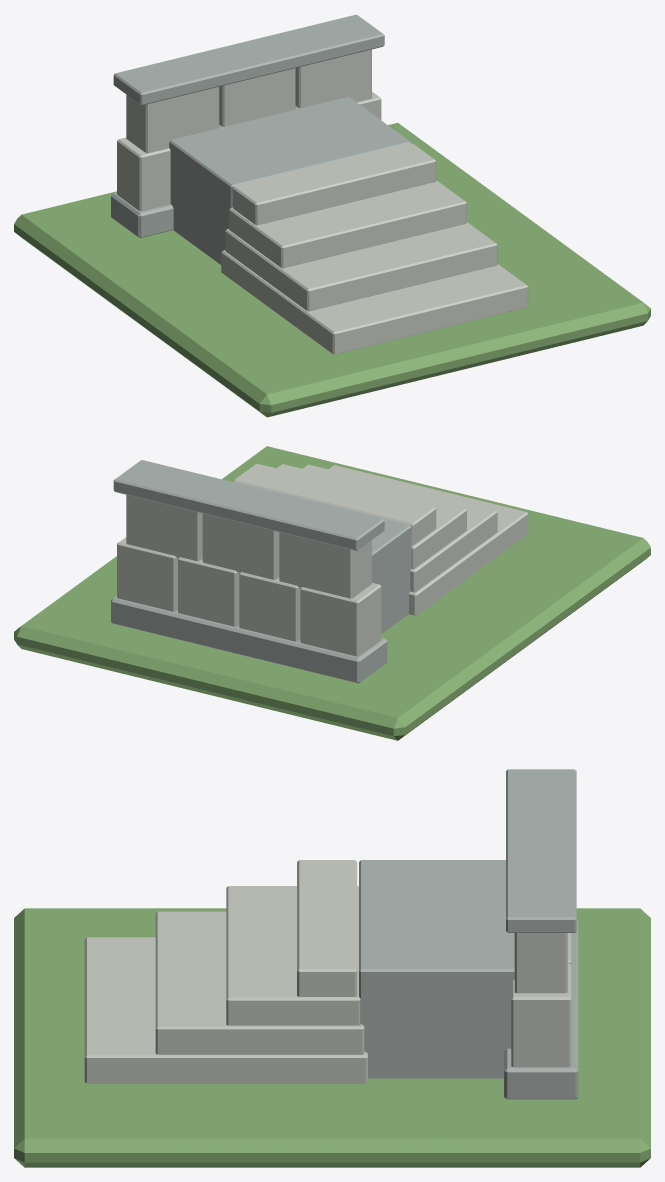
3 renders of one model, top to bottom at view 1: azimuth 30°, elevation 25°; view 2: azimuth 150°, elevation 25°; view 3: azimuth 270°, elevation 25°, orthographic. The views are drawn at different scales.
Visible parts, largest first — view 1: village-stone-lookout-01; view 2: village-stone-lookout-01; view 3: village-stone-lookout-01.
Part boxes in pixels (bbox=[...]): village-stone-lookout-01: bbox=[14, 14, 650, 417]; village-stone-lookout-01: bbox=[14, 446, 650, 740]; village-stone-lookout-01: bbox=[14, 769, 650, 1167].
Size of the model in its own units: 3.2 by 1.3 by 3.6.
